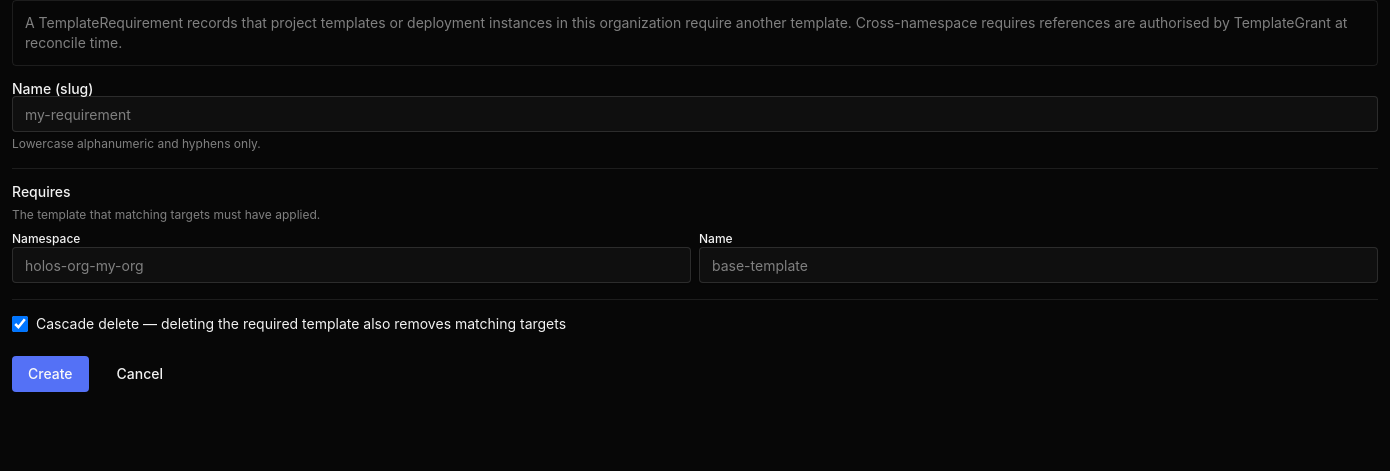
Test case: RequirementForm › shows an error when requires fields are empty on submit
This screenshot has width=1390, height=471.
In the field named "Requirement name": (695, 114) top-left (12, 96), bottom-right (1378, 132), type "my-req"
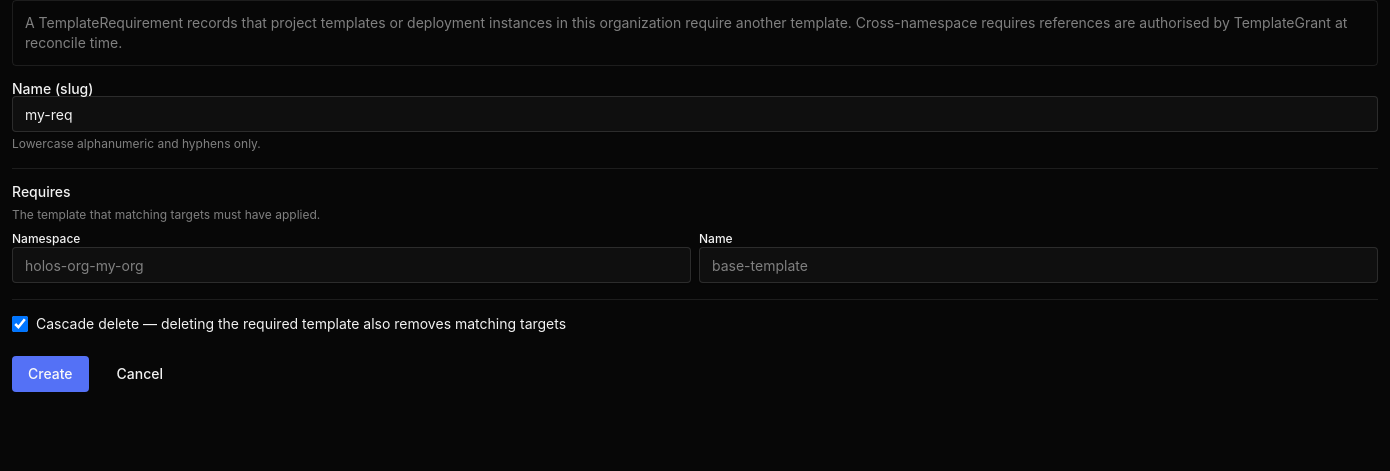
Click the button "Create": (50, 374) top-left (12, 356), bottom-right (89, 392)
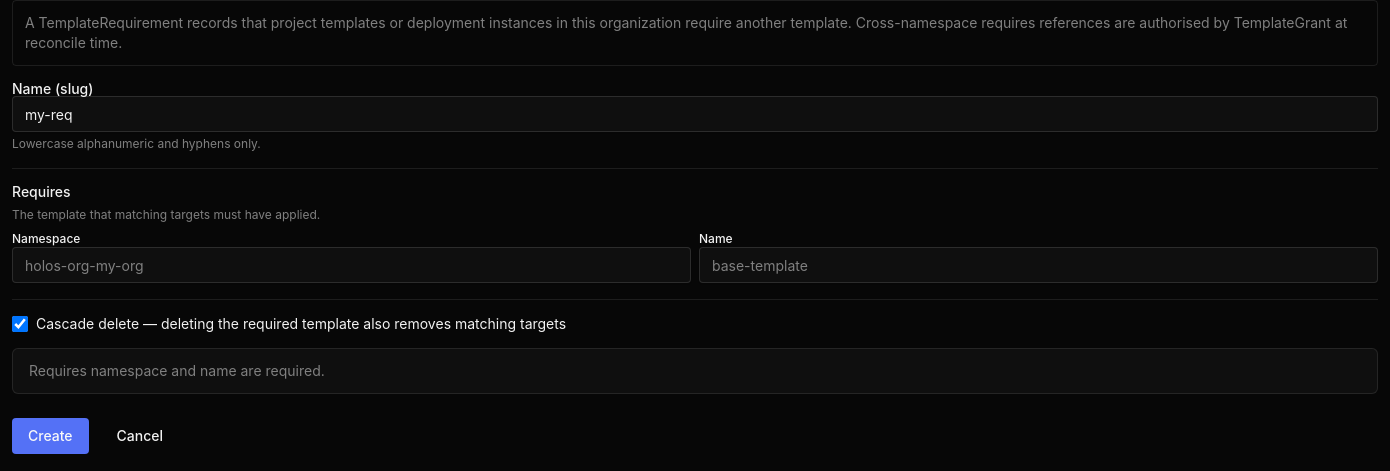
Expected: the element with test id "requirement-form-error" shows "Requires namespace and name are required", top-left (29, 362), bottom-right (325, 379)
